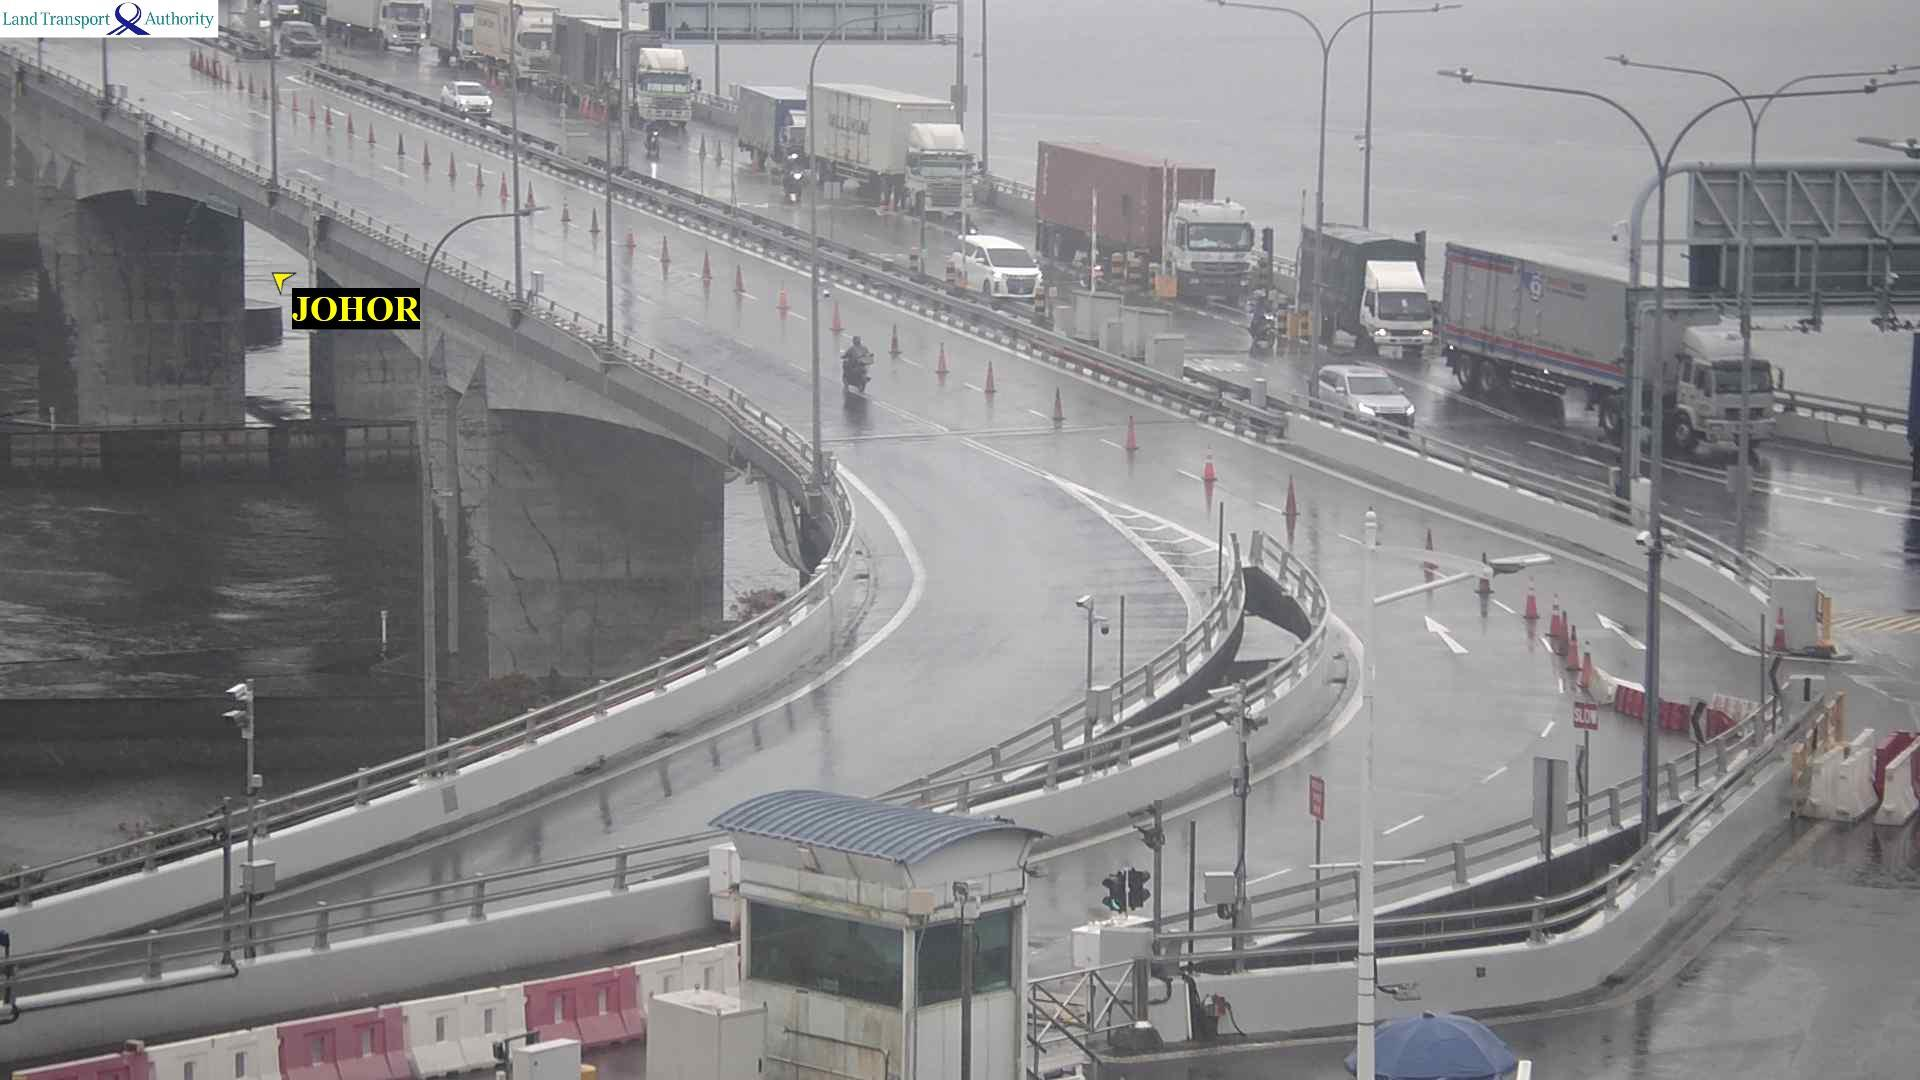vehicle-secondlink-johor: (840, 331, 876, 396)
vehicle-secondlink-singapore: (1444, 238, 1778, 451), (998, 145, 1267, 294), (731, 81, 988, 205), (1253, 221, 1448, 358), (709, 81, 849, 197), (553, 14, 693, 125), (1303, 365, 1417, 422), (958, 235, 1058, 298), (476, 0, 551, 83), (328, 0, 426, 43), (431, 2, 473, 67), (440, 82, 491, 114), (280, 25, 324, 56), (641, 119, 663, 155)
